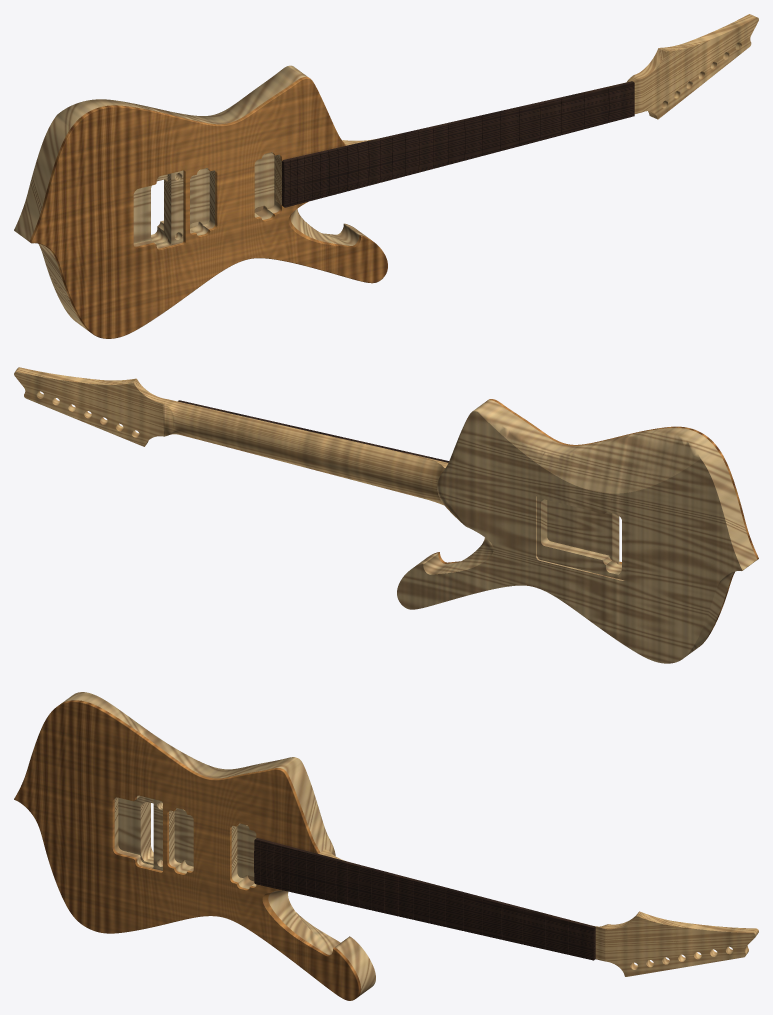
Rendered from wes-hauch-iceman.glb.
The picture shows the model from 3 angles, top to bottom: view 1: azimuth 30°, elevation 25°; view 2: azimuth 150°, elevation 25°; view 3: azimuth 330°, elevation 25°; orthographic projection. The views are drawn at different scales.
Parts seen in each view (by area): view 1: top_b, top_a, fret, body, neck; view 2: body, neck, top_b, fret; view 3: top_b, top_a, fret, body, neck.
Boxes of the visible parts, x1,y1,x2,y2 form: top_b: (29, 76, 345, 243); top_a: (37, 190, 387, 338); fret: (282, 81, 634, 207); body: (14, 65, 367, 330); neck: (275, 14, 758, 204); body: (397, 400, 757, 663); neck: (14, 367, 448, 505); top_b: (487, 399, 758, 559); fret: (178, 400, 448, 462); top_b: (14, 700, 320, 853); top_a: (19, 802, 360, 1000); fret: (254, 838, 595, 960); body: (61, 692, 375, 996); neck: (319, 849, 758, 976).
Size of the model in its own units: 1117 by 345 by 71.57.
4 materials, 4 textured.
